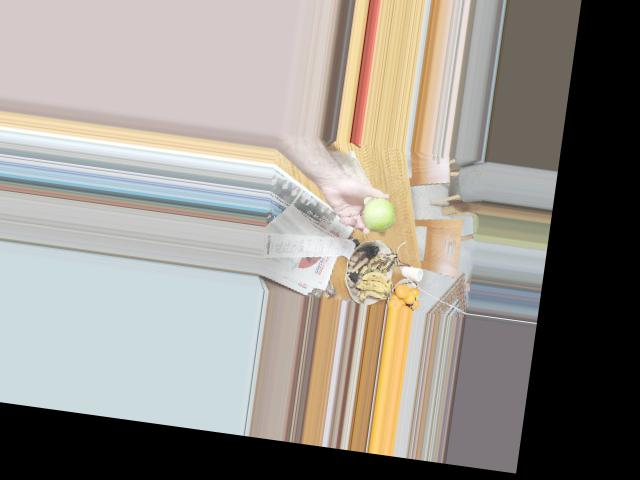apple: (360, 197, 398, 234)
